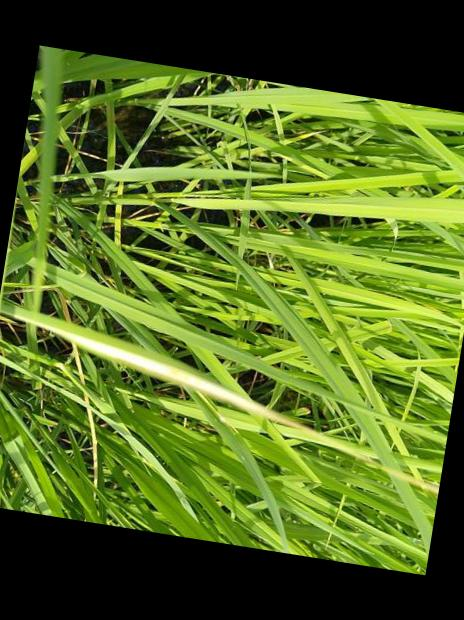Leaf Blight: (20, 317, 439, 495)
